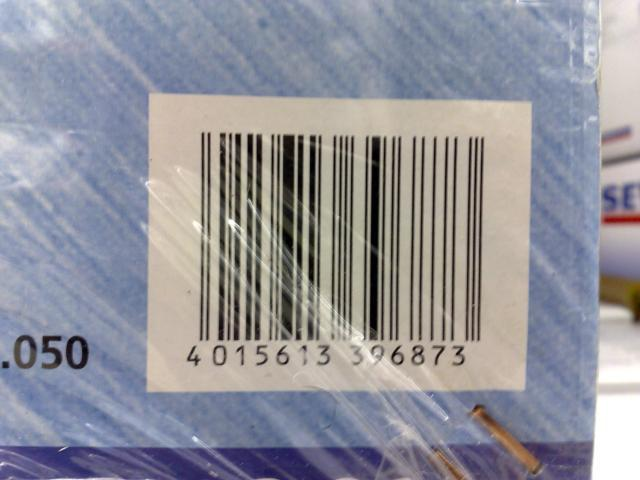Barcode: (181, 119, 491, 380)
